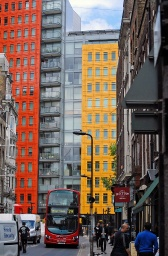bus: (44, 186, 82, 250)
